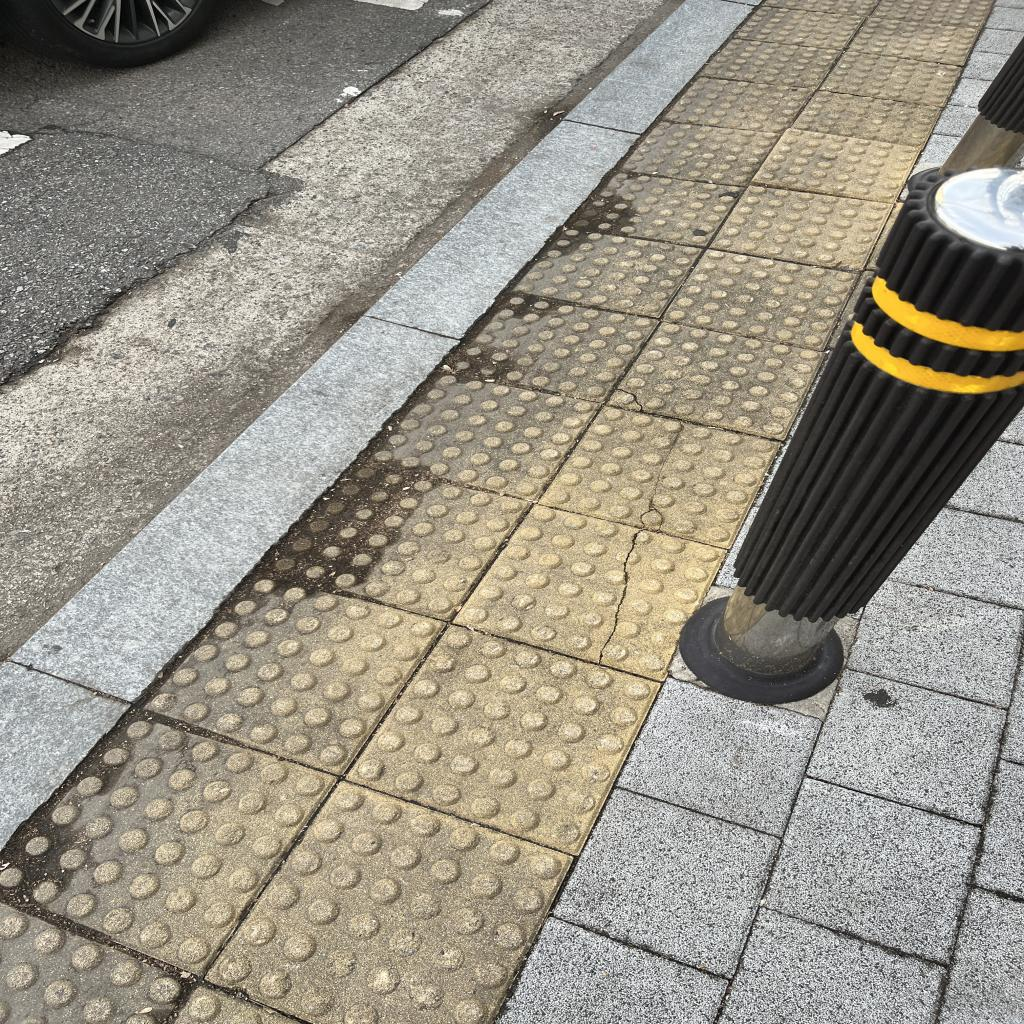Stop block broken: (453, 493, 724, 688)
Stop block normal: (346, 611, 659, 862), (141, 559, 443, 788), (266, 451, 528, 630), (368, 362, 597, 506)
